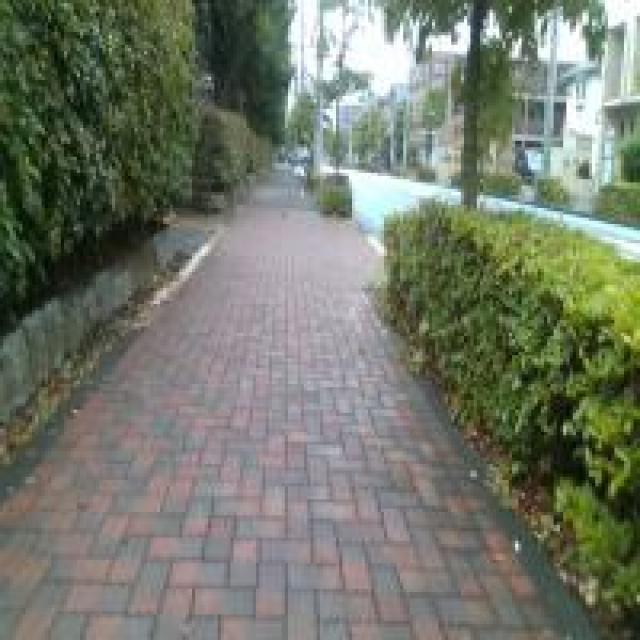Obstacle: (382, 200, 639, 639), (315, 176, 350, 214)
Road: (480, 196, 639, 258), (341, 170, 460, 251)
Sidewalk: (0, 181, 574, 639), (0, 182, 565, 639)
